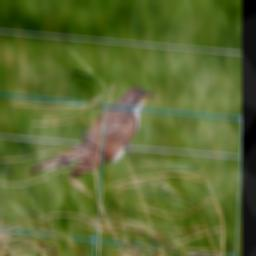Cuckoo: (27, 82, 157, 187)
